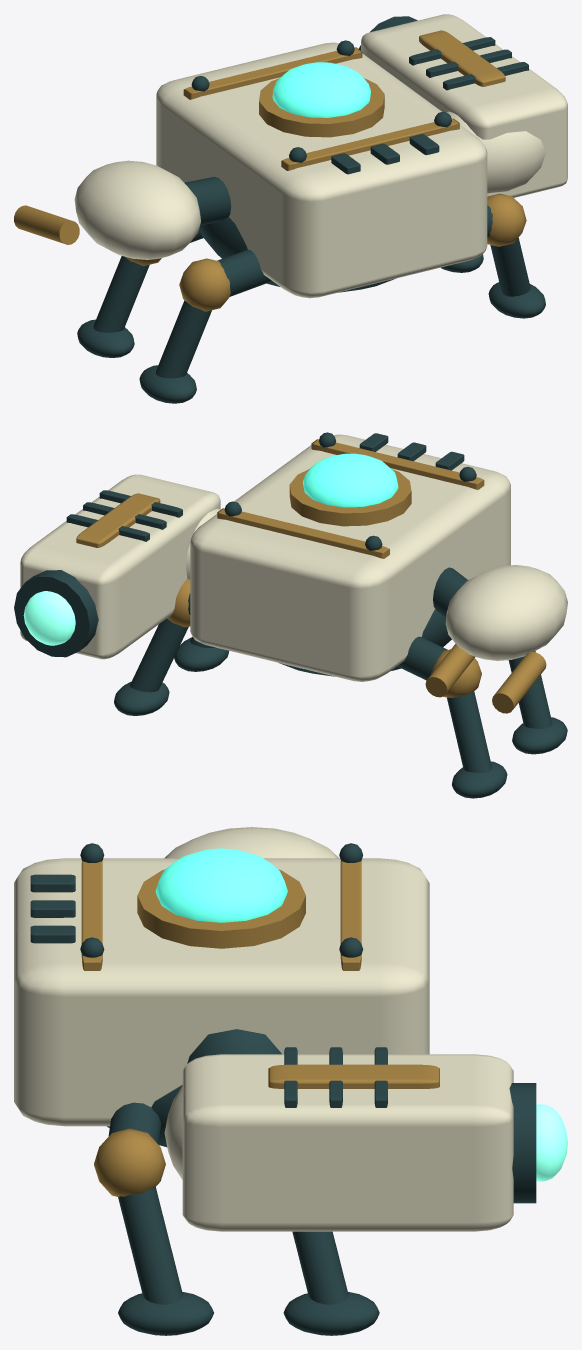
The model's file is hero.glb.
3 renders of one model, top to bottom at view 1: azimuth 30°, elevation 25°; view 2: azimuth 150°, elevation 25°; view 3: azimuth 270°, elevation 25°, orthographic. The views are drawn at different scales.
Visible parts, largest first — view 1: rigid-e9e6cb, rigid-284548 (×4), seed-barrel, rigid-ab8642 (×3), rigid-74d5c4, sleeve, gold-ridge, barrel-rib (×3); view 2: rigid-e9e6cb, rigid-284548 (×5), seed-barrel, rigid-ab8642 (×3), rigid-74d5c4, muzzle, seed-core, gold-ridge, barrel-rib (×3); view 3: rigid-e9e6cb, seed-barrel, rigid-284548 (×3), rigid-ab8642 (×2), rigid-74d5c4, gold-ridge, muzzle, seed-core, barrel-rib (×3), socket, sleeve.
Part boxes in pixels (box(x1,y1,x2,y2)): rigid-e9e6cb: box(74, 42, 487, 298); rigid-284548 (×4): box(77, 40, 545, 403); seed-barrel: box(361, 14, 567, 197); rigid-ab8642 (×3): box(14, 47, 526, 311); rigid-74d5c4: box(272, 62, 370, 117); sleeve: box(446, 111, 546, 193); gold-ridge: box(419, 30, 505, 86); barrel-rib (×3): box(409, 37, 528, 90); rigid-e9e6cb: box(190, 434, 567, 681); rigid-284548 (×5): box(114, 432, 567, 798); seed-barrel: box(20, 474, 220, 659); rigid-ab8642 (×3): box(167, 439, 546, 713); rigid-74d5c4: box(303, 453, 398, 507); muzzle: box(14, 570, 98, 657); seed-core: box(23, 591, 75, 645); gold-ridge: box(76, 493, 160, 547); barrel-rib (×3): box(66, 490, 182, 541); rigid-e9e6cb: box(14, 827, 429, 1126); seed-barrel: box(182, 1054, 513, 1231); rigid-284548 (×3): box(30, 843, 379, 1335); rigid-ab8642 (×2): box(81, 860, 361, 1196); rigid-74d5c4: box(155, 848, 287, 922); gold-ridge: box(268, 1064, 439, 1088); muzzle: box(509, 1083, 536, 1203); seed-core: box(536, 1104, 567, 1181); barrel-rib (×3): box(284, 1047, 387, 1107); socket: box(187, 1029, 281, 1063); sleeve: box(164, 1086, 182, 1179).
Size of the model in its own units: 2.43 by 1.32 by 1.84.
